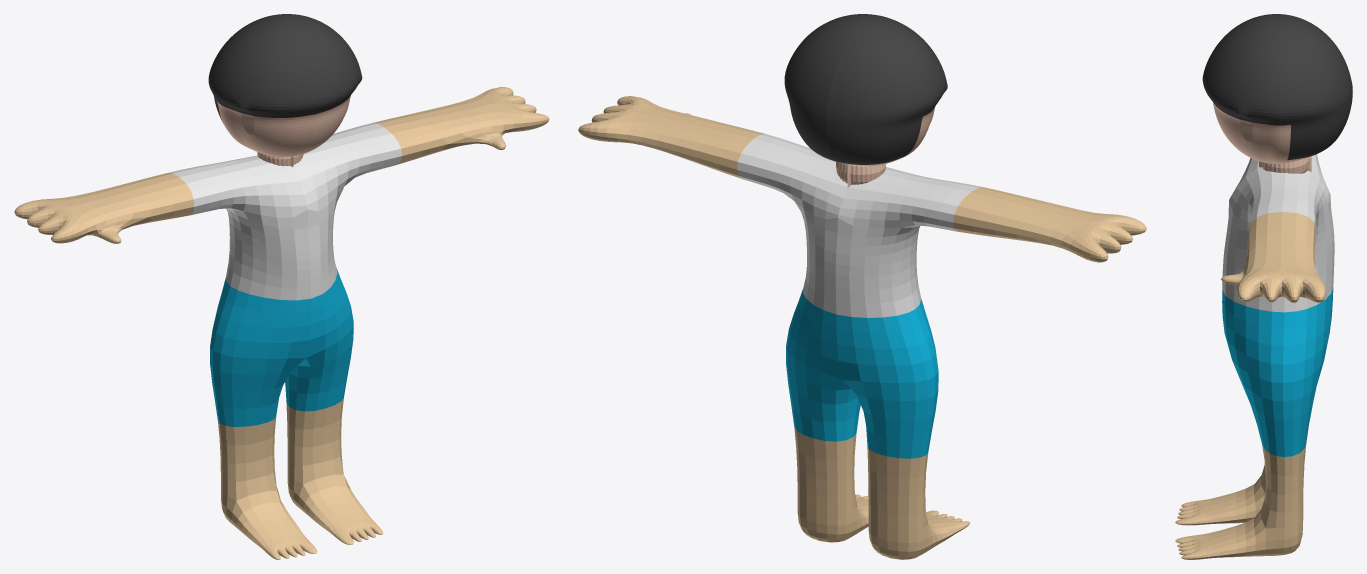
The model's file is charactermovement1.fbx.
3 renders of one model, left to right at view 1: azimuth 30°, elevation 25°; view 2: azimuth 150°, elevation 25°; view 3: azimuth 270°, elevation 25°, orthographic. The views are drawn at different scales.
Parts seen in each view (by area): view 1: CharacterKid; view 2: CharacterKid; view 3: CharacterKid.
Part boxes in pixels (box(x1,y1,x2,y2)): CharacterKid: box(14, 14, 549, 559); CharacterKid: box(578, 14, 1146, 559); CharacterKid: box(1175, 14, 1352, 559).
Bounding box in the file's own units: 1498 × 1424 × 447.
